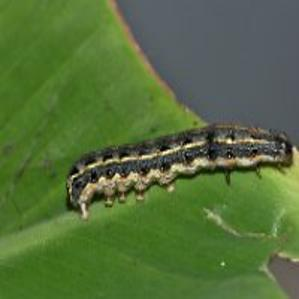Tobacco cutworm: (45, 81, 299, 258)
